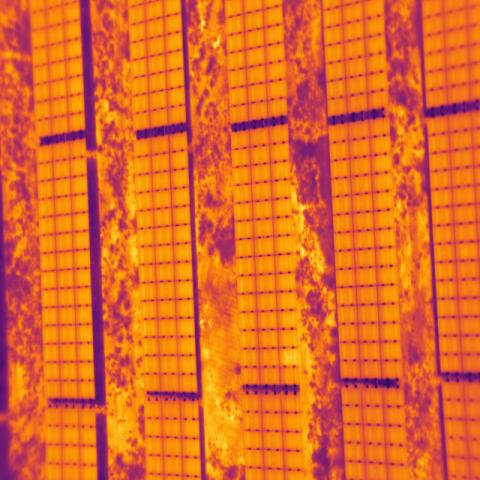fault: (280, 348, 299, 367)
